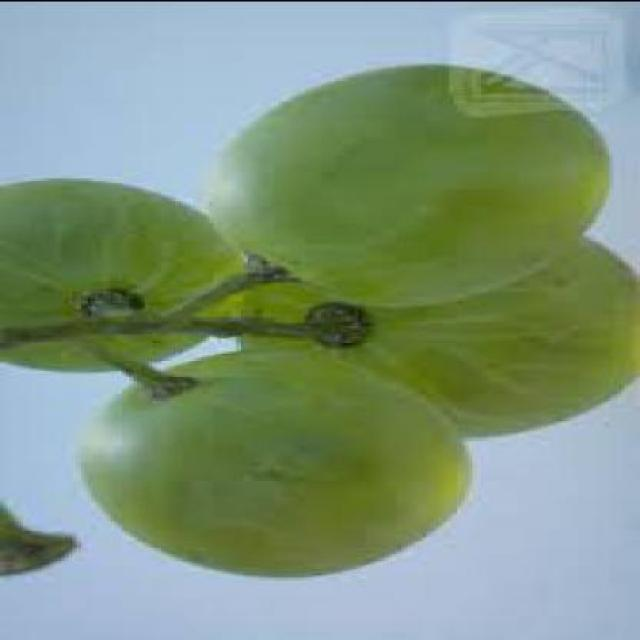BIODEGRADABLE: (198, 62, 610, 302), (72, 346, 470, 574), (240, 228, 637, 434), (0, 176, 240, 370)
